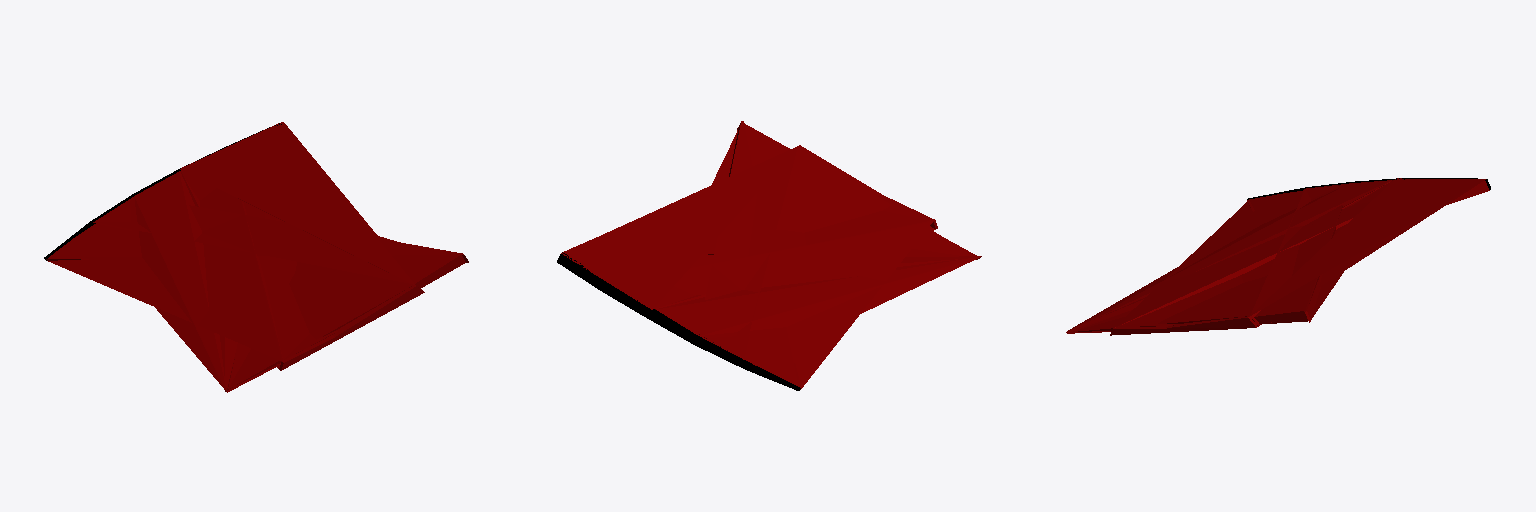
File: Sunglasses.obj
3 renders of one model, left to right at view 1: azimuth 30°, elevation 25°; view 2: azimuth 150°, elevation 25°; view 3: azimuth 330°, elevation 25°, orthographic.
Visible parts, largest first — view 1: Box001; view 2: Box001, Box005, Box004; view 3: Box001.
Part boxes in pixels (left/top/right/bottom): Box001: left=46, top=122, right=468, bottom=392; Box001: left=561, top=121, right=981, bottom=389; Box005: left=562, top=254, right=800, bottom=390; Box004: left=557, top=252, right=799, bottom=390; Box001: left=1066, top=178, right=1489, bottom=335.
Size of the model in its own units: 50899 by 15959 by 70841.